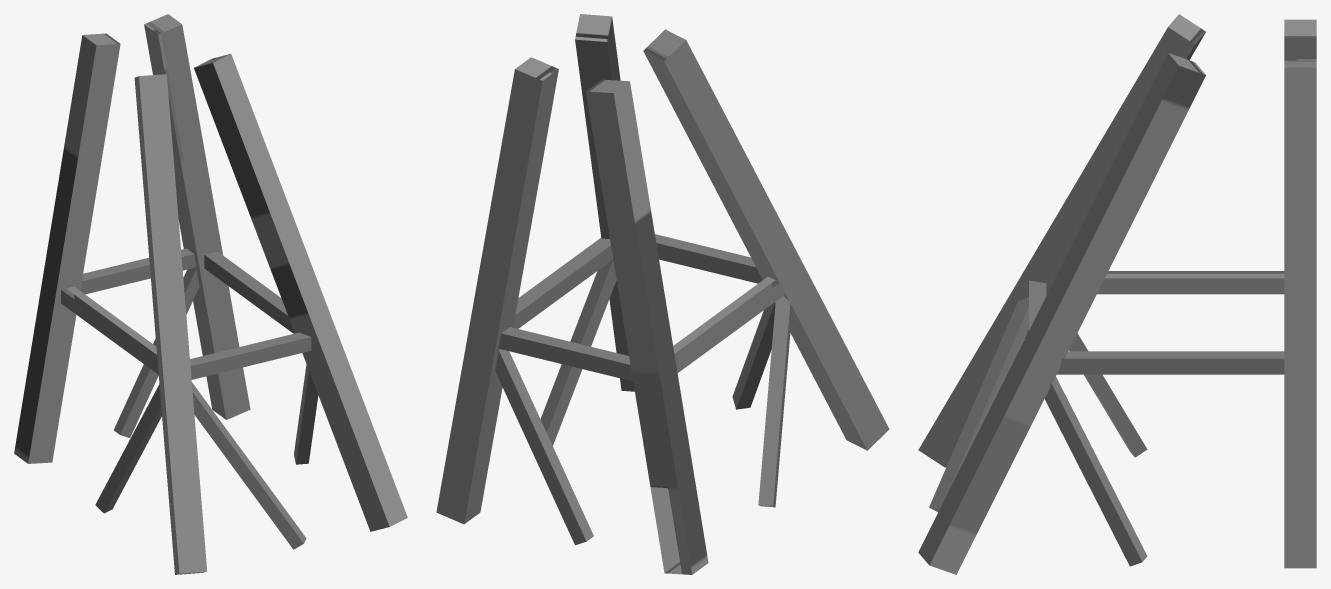
3 views of the same model, side by side, from view 1: azimuth 30°, elevation 25°; view 2: azimuth 150°, elevation 25°; view 3: azimuth 270°, elevation 25° (orthographic). The views are drawn at different scales.
Bounding box in the file's own units: 0.6063 × 1.05 × 0.796.
